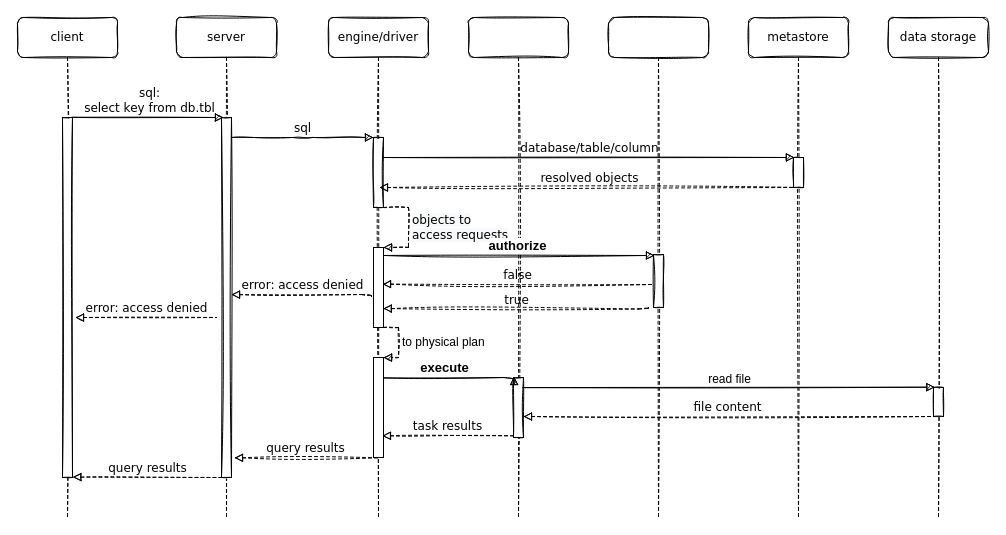
The diagram is 1006 pixels wide and 535 high, and some of its shapes have lost their labels. The centre of each missing label's shape, as x and y in pixels:
"executor" goes at (518,267).
"ranger" goes at (658,267).
